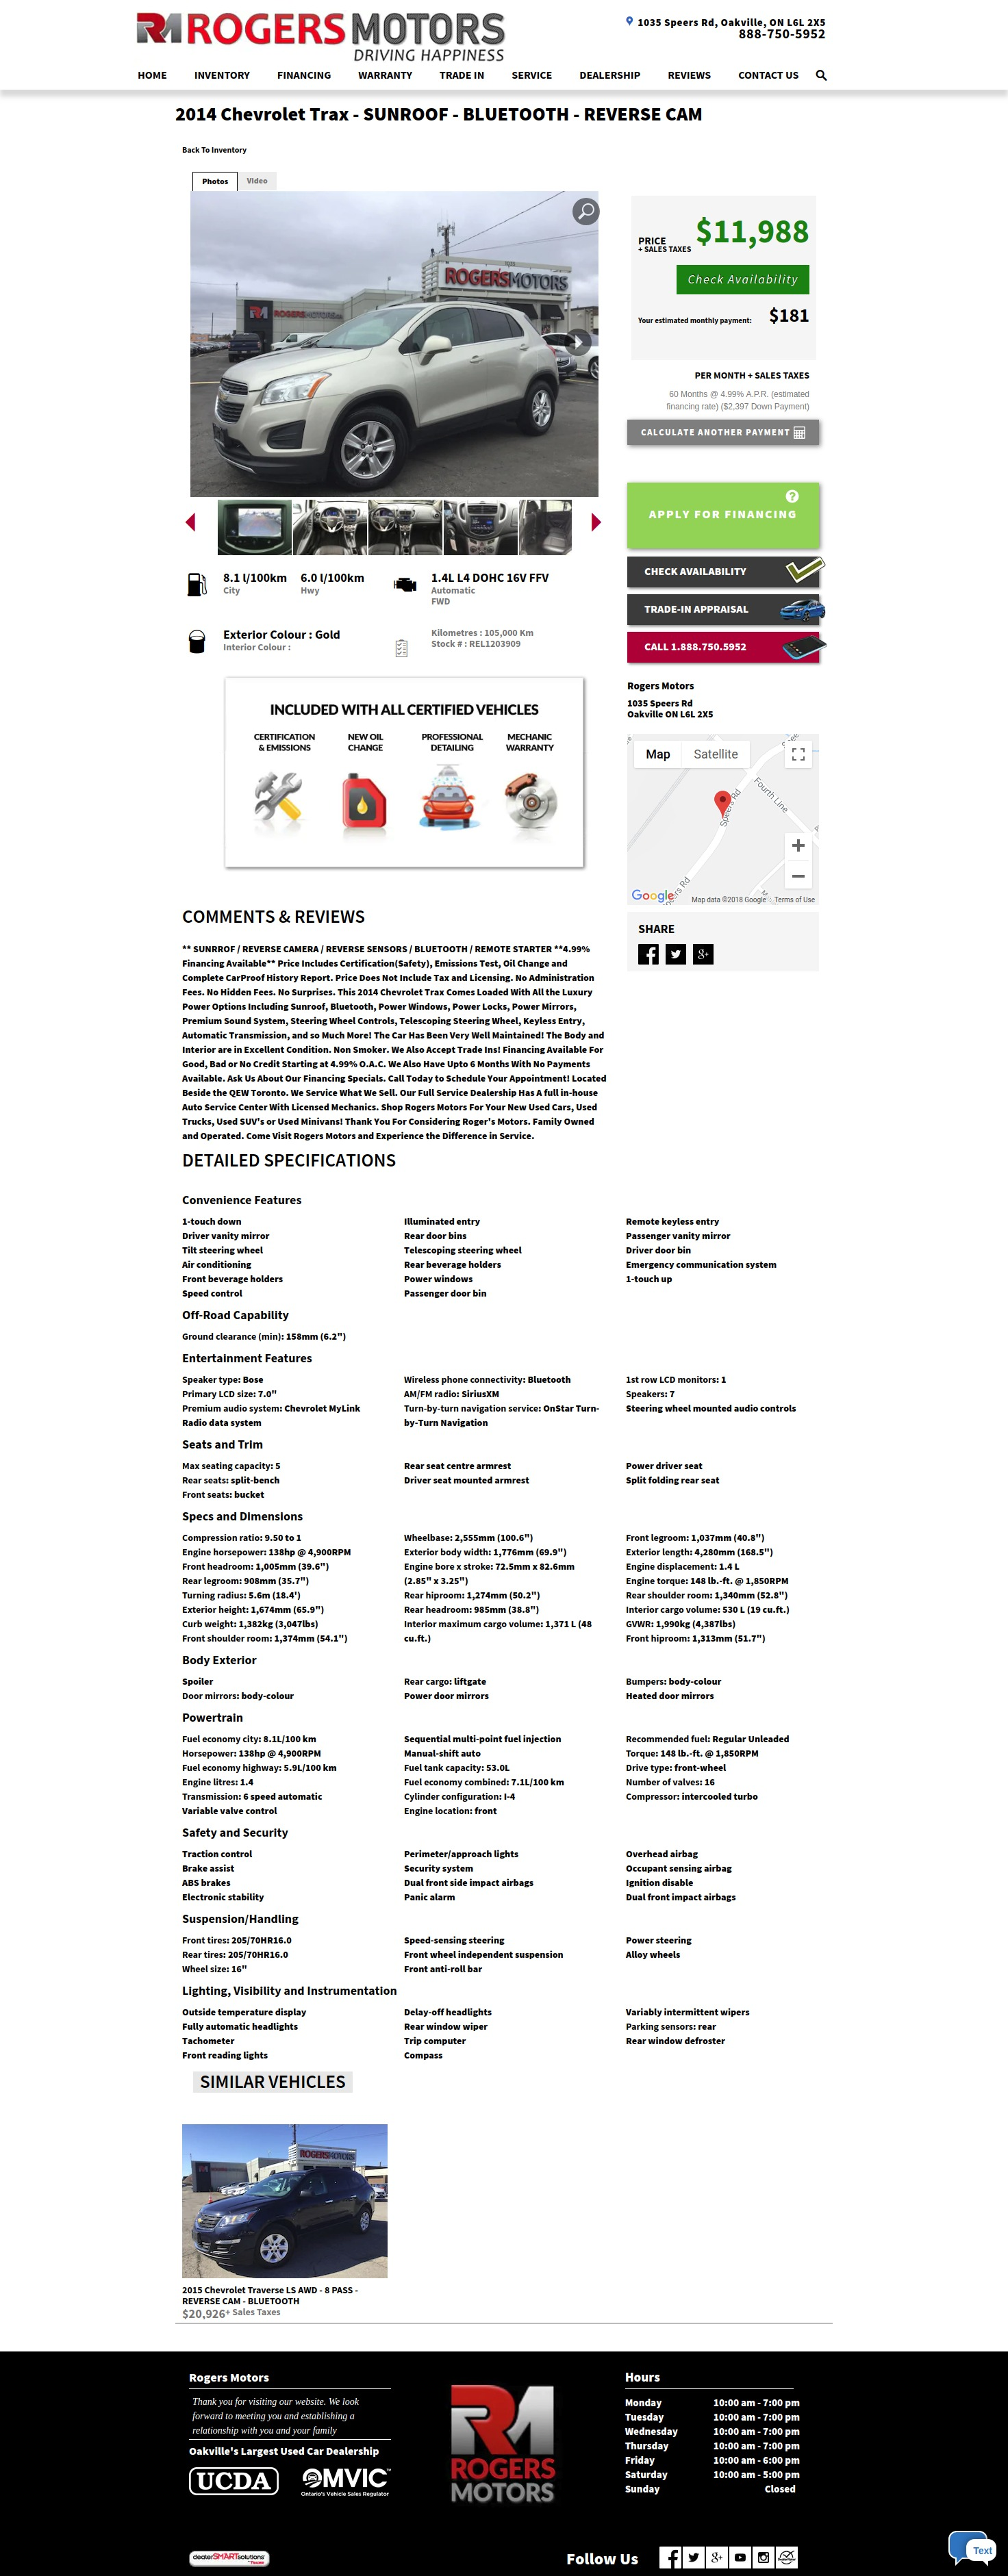car: (592, 513, 602, 534)
